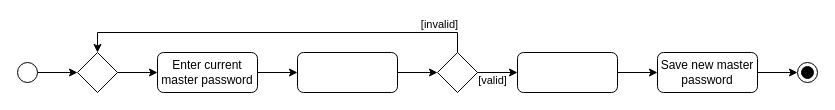
This 835x110 diagram has some shape labels left out. Here are the shapes that lost their labels. From the top down, the box of each, then its label:
(296, 52, 398, 92): Check validity
(516, 52, 618, 92): Enter new master password
